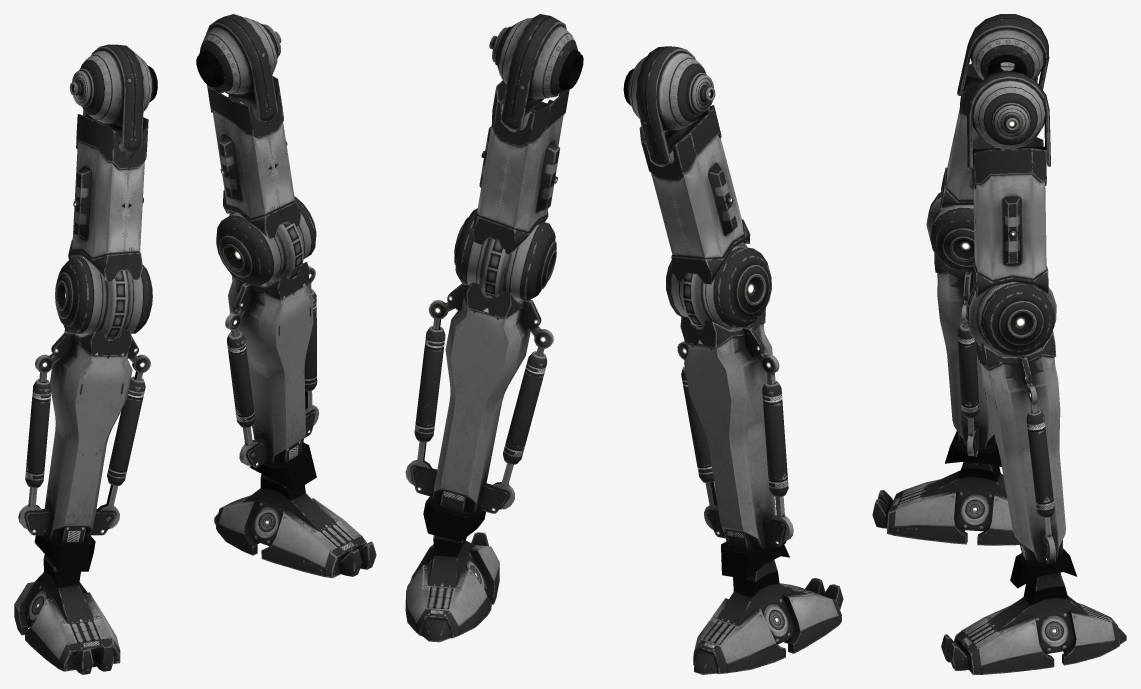
File: legs.gltf
3 views of the same model, side by side, from view 1: azimuth 30°, elevation 25°; view 2: azimuth 150°, elevation 25°; view 3: azimuth 270°, elevation 25° (orthographic). The views are drawn at different scales.
Parts seen in each view (by area): view 1: MP_FRAME_LEGS; view 2: MP_FRAME_LEGS; view 3: MP_FRAME_LEGS.
Boxes of the visible parts, bbox=[...] form: MP_FRAME_LEGS: bbox=[14, 14, 376, 674]; MP_FRAME_LEGS: bbox=[405, 14, 843, 674]; MP_FRAME_LEGS: bbox=[872, 14, 1126, 674].
Size of the model in its own units: 1.01 by 1.55 by 0.6529.
